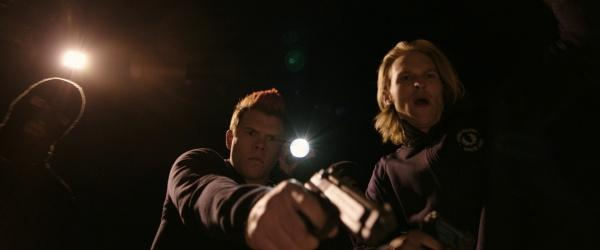Gun: (304, 163, 398, 246)
